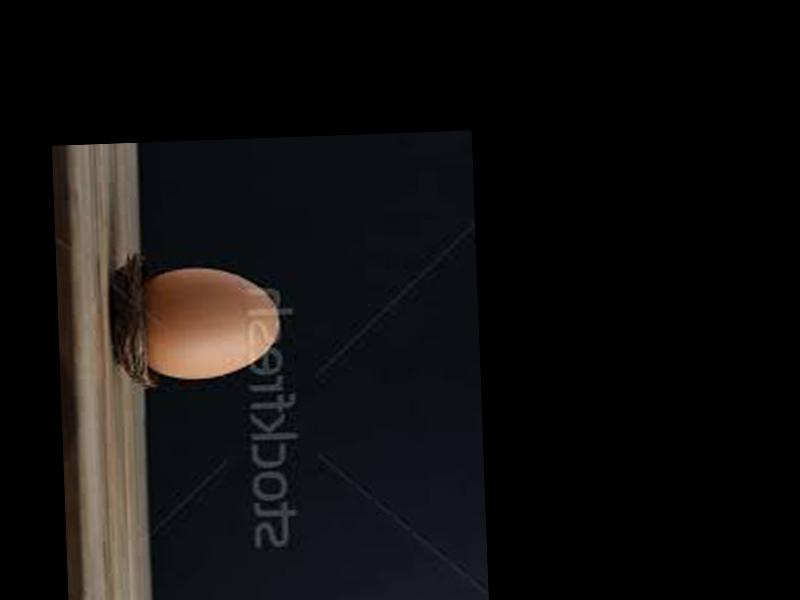Eggs: (141, 263, 280, 378)
